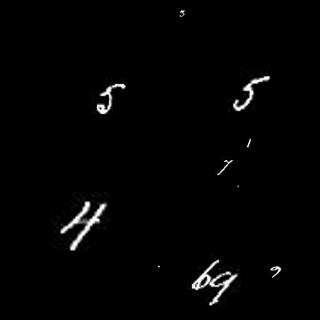dot: (152, 259, 168, 272), (235, 181, 244, 190)
five: (231, 72, 271, 113), (91, 79, 128, 117)
four: (63, 200, 107, 252)
nine: (208, 272, 243, 308), (267, 262, 284, 282)
one: (244, 135, 254, 148)
seven: (216, 156, 232, 175)
six: (190, 257, 220, 289)
three: (175, 7, 187, 22)
